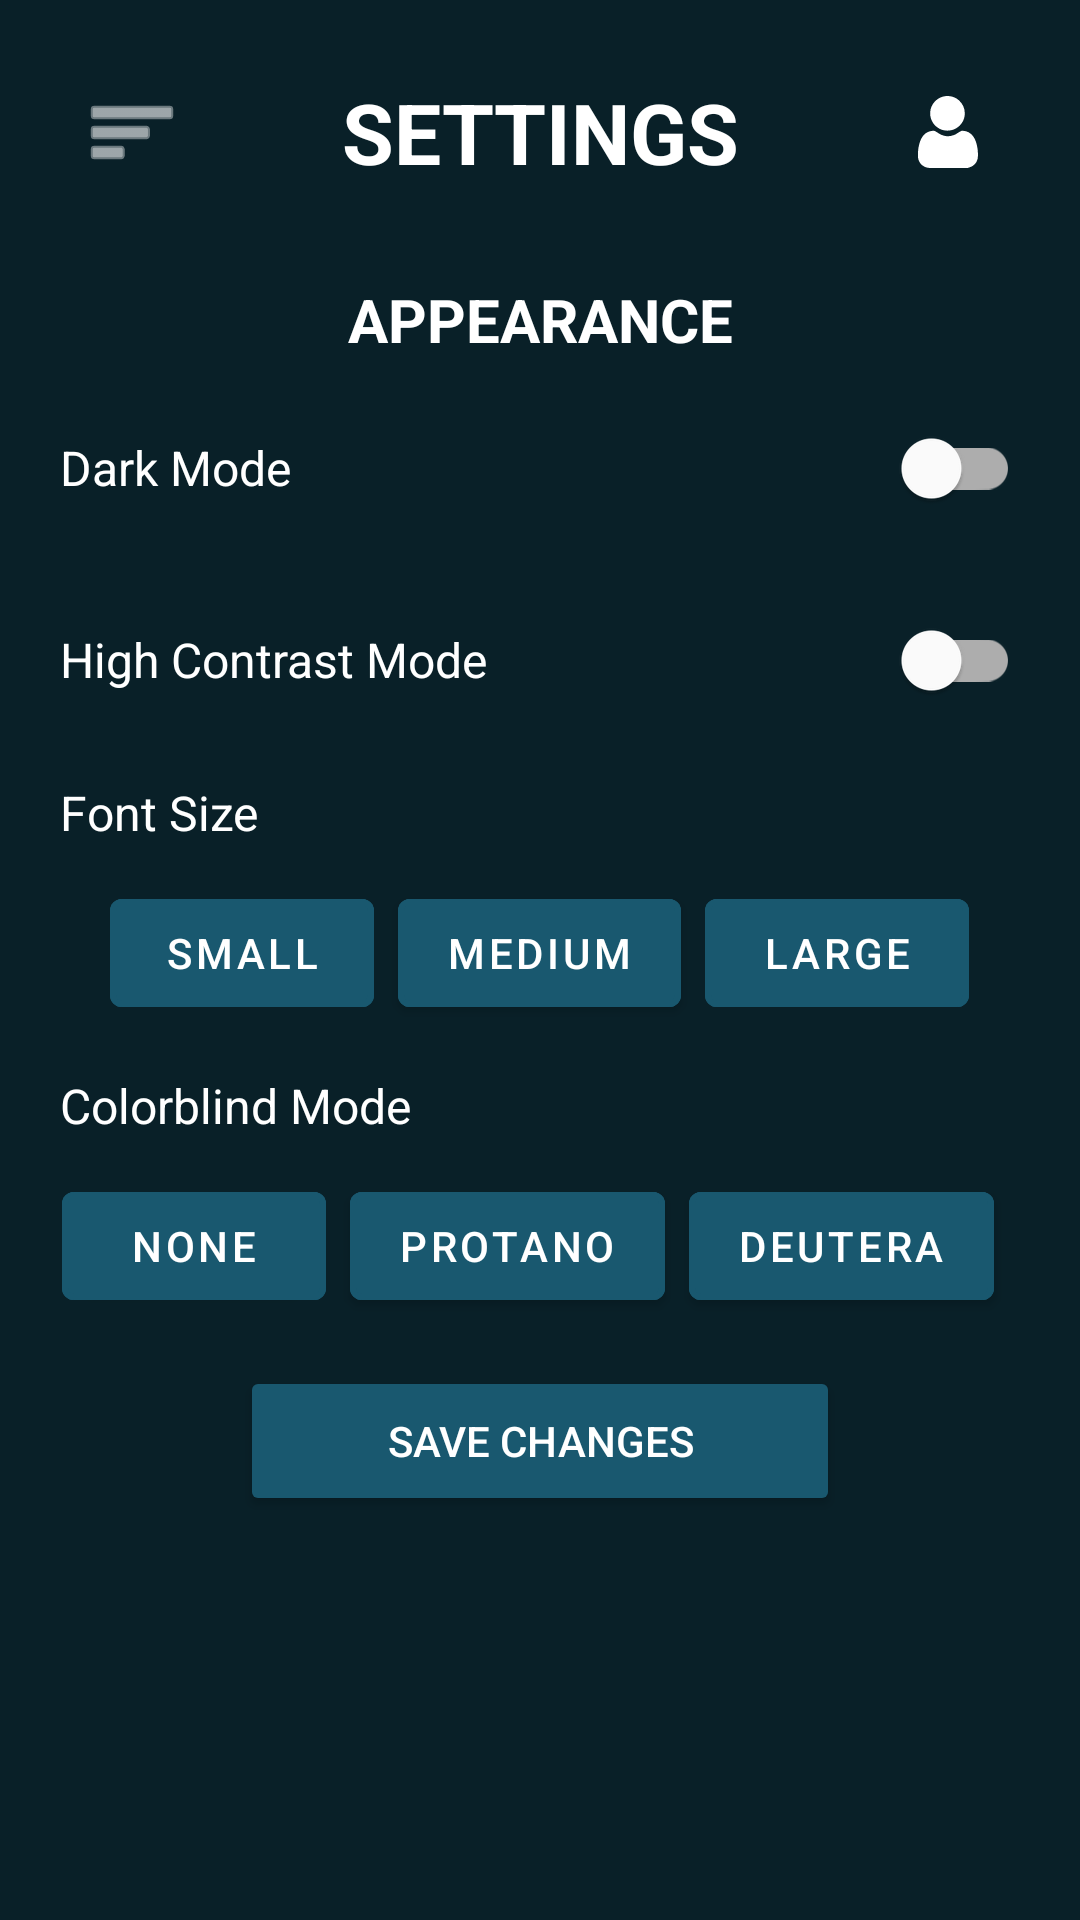

Where to tap for icons on this 1080x1920 app screen, as (x,y):
Open menu: (132,132)
Open user profile: (948,132)
